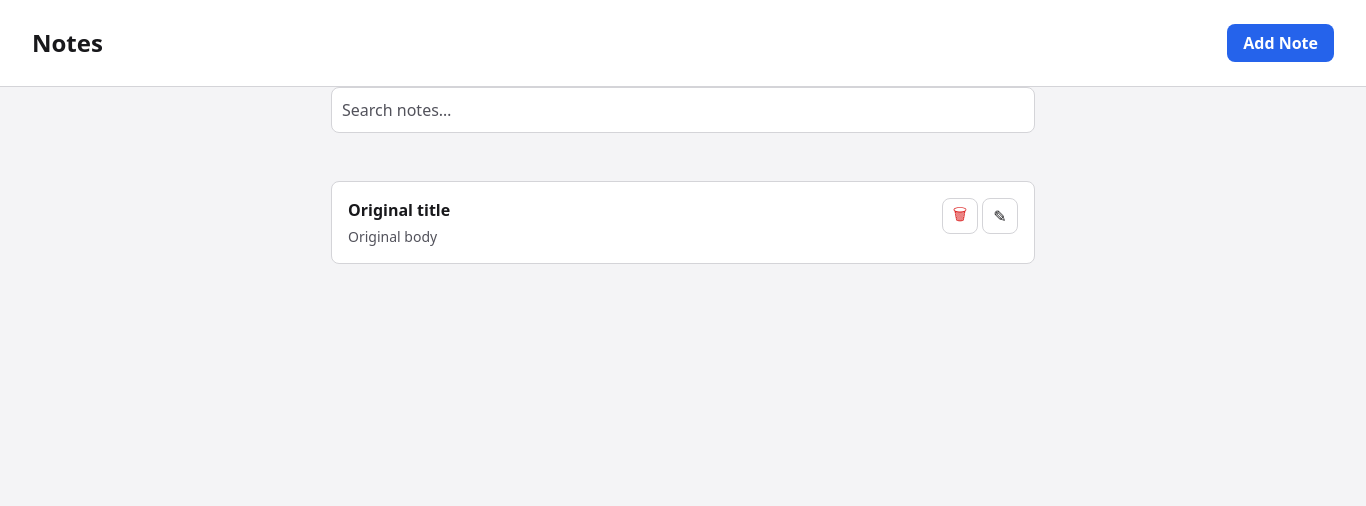
it: NoteEditInline › leaves store unchanged on Cancel
Click the button with test id "edit-note-test-note-1": click(1000, 216) [982,198,1018,234]
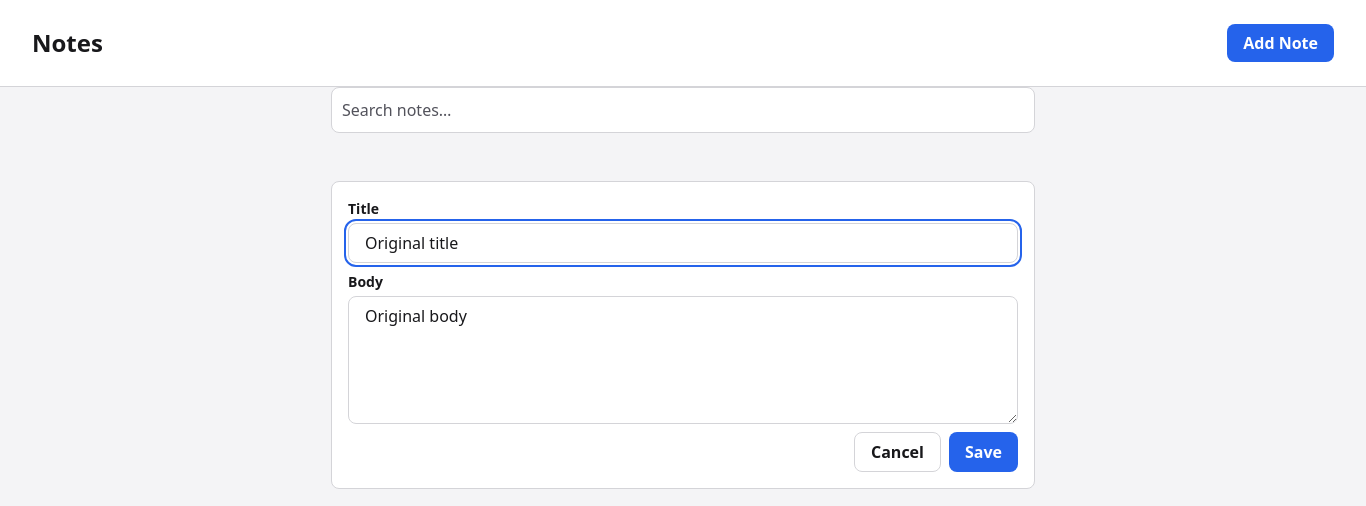
Replace the text in the field with test id "note-edit-title" with "Draft title": (683, 243) [348,223,1018,263]
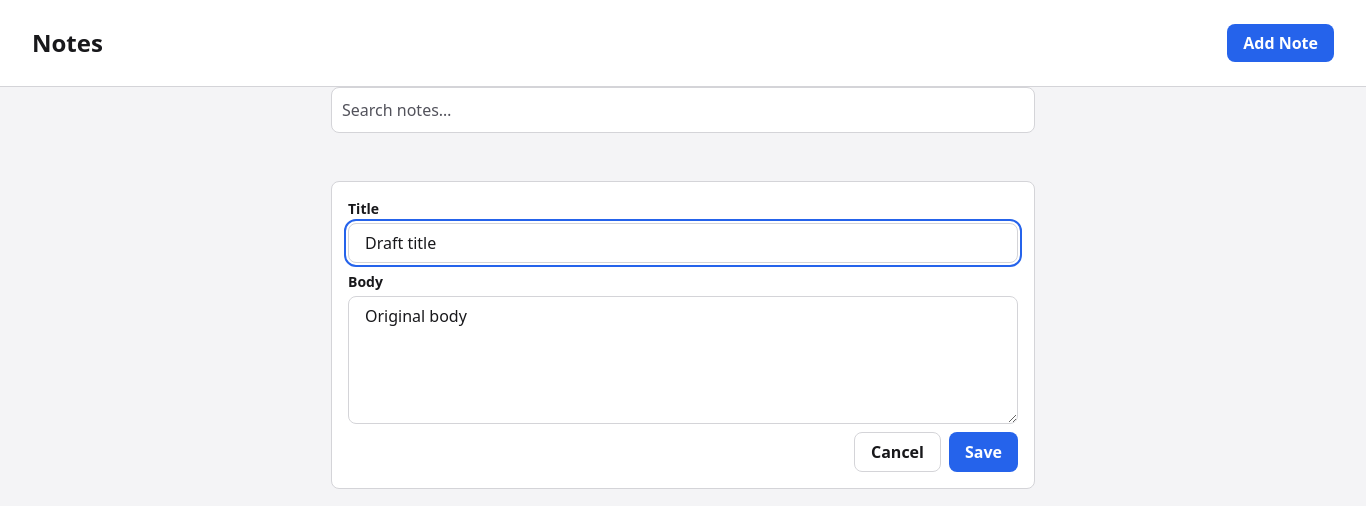
Click the button with test id "note-edit-cancel": click(897, 452) [854,432,941,472]
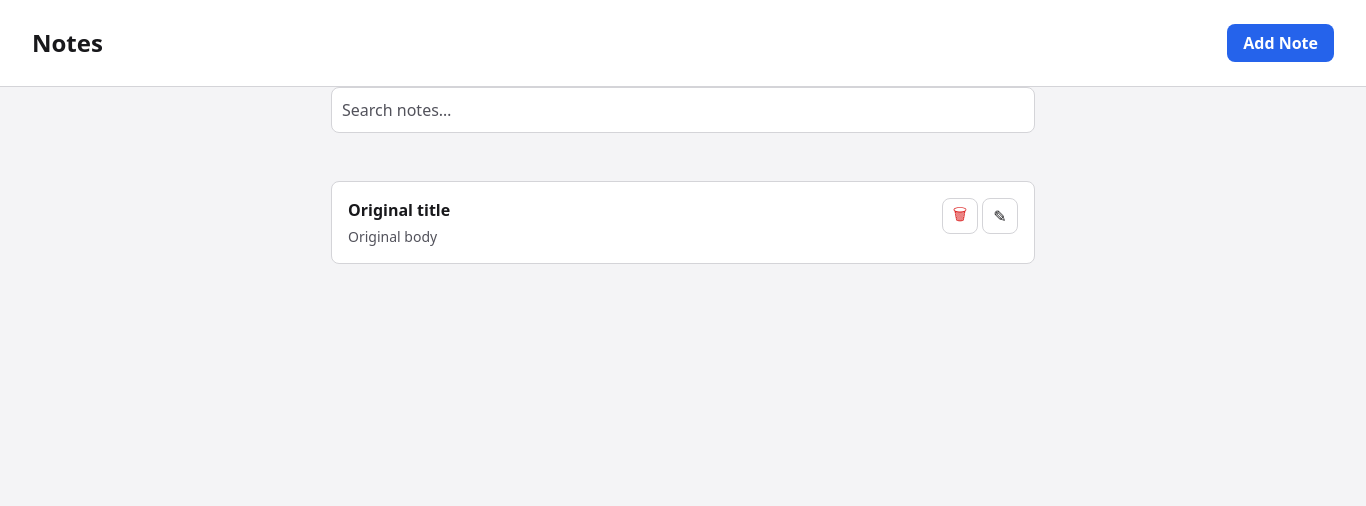
Expected: the text "Original title" is shown, [348,199,450,221]
Expected: the text "Original body" is shown, [348,227,437,246]
